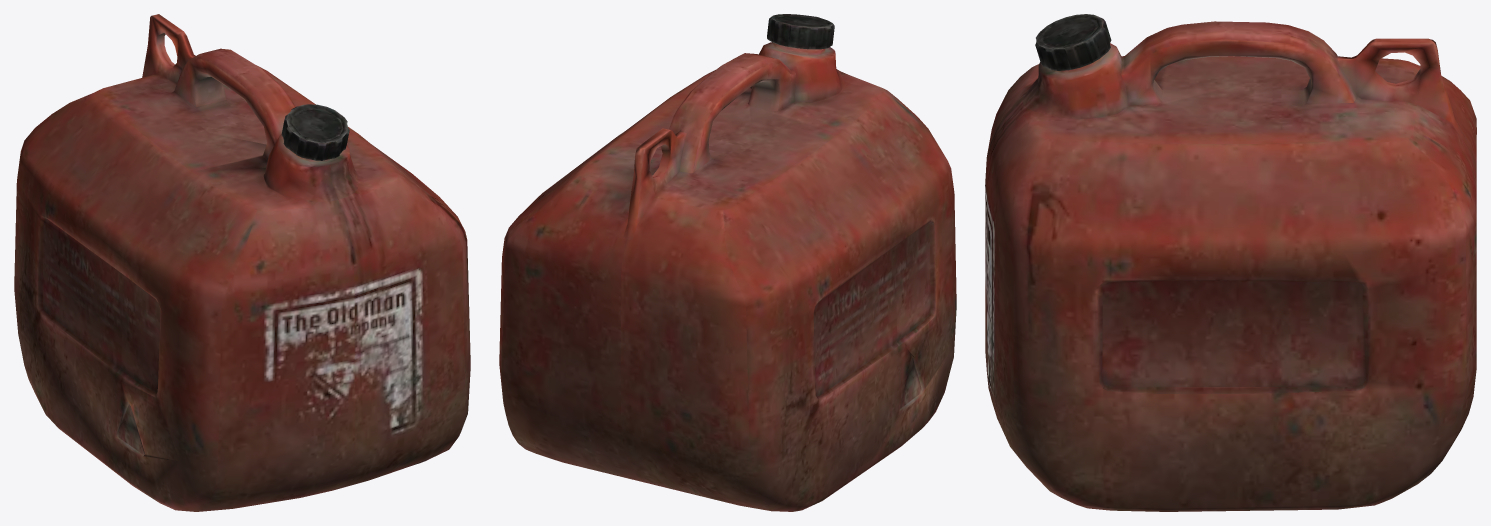
Rendered from plastic_jerrycan.glb.
The picture shows the model from 3 angles, left to right: view 1: azimuth 30°, elevation 25°; view 2: azimuth 150°, elevation 25°; view 3: azimuth 270°, elevation 25°; orthographic projection. The views are drawn at different scales.
Parts seen in each view (by area): view 1: plastic_jerrycan; view 2: plastic_jerrycan; view 3: plastic_jerrycan.
Boxes of the visible parts, x1=… form: plastic_jerrycan: x1=14, y1=14, x2=470, y2=511; plastic_jerrycan: x1=499, y1=14, x2=956, y2=511; plastic_jerrycan: x1=985, y1=14, x2=1476, y2=511.
Bounding box in the file's own units: 0.268 × 0.3181 × 0.3401.
Materials: 1 (1 with a texture image).
